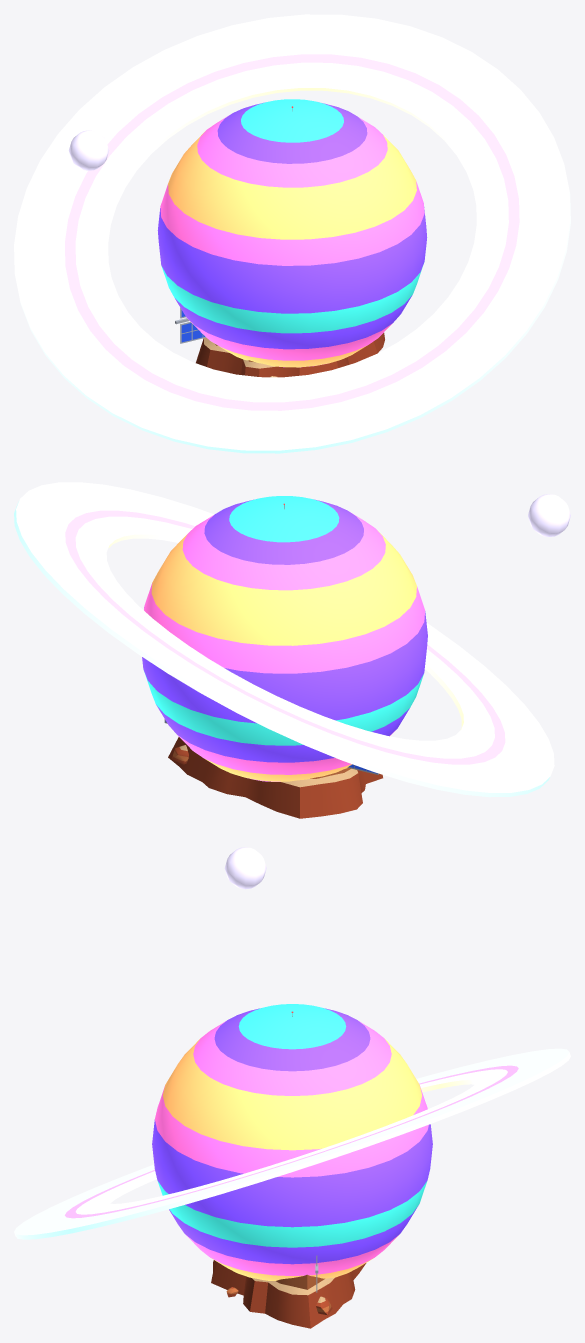
File: props.glb
The picture shows the model from 3 angles, top to bottom: view 1: azimuth 30°, elevation 25°; view 2: azimuth 150°, elevation 25°; view 3: azimuth 270°, elevation 25°; orthographic projection. The views are drawn at different scales.
Visible parts, largest first — view 1: planet_ringed, mesa; view 2: planet_ringed, mesa; view 3: planet_ringed, mesa.
Boxes of the visible parts, bbox=[...] form: planet_ringed: bbox=[14, 14, 570, 453]; mesa: bbox=[196, 333, 384, 377]; planet_ringed: bbox=[14, 482, 570, 797]; mesa: bbox=[168, 737, 382, 818]; planet_ringed: bbox=[14, 847, 570, 1280]; mesa: bbox=[211, 1260, 366, 1328].
Size of the model in its own units: 122 by 76.7 by 119.
